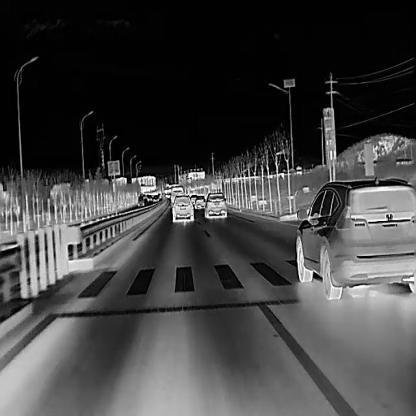car: (294, 173, 415, 301), (168, 194, 193, 223), (202, 192, 227, 218), (170, 185, 185, 207), (195, 195, 206, 208), (137, 195, 144, 205), (147, 193, 152, 201), (153, 194, 158, 201)
